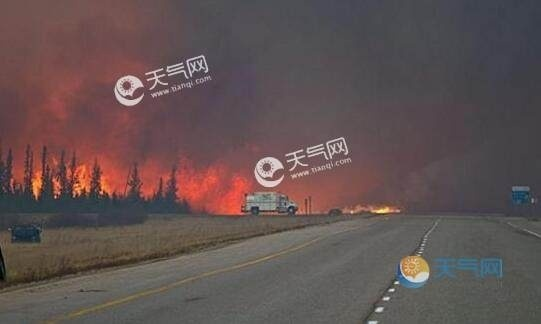fire: (13, 145, 256, 210), (153, 157, 251, 214), (340, 197, 401, 216)
